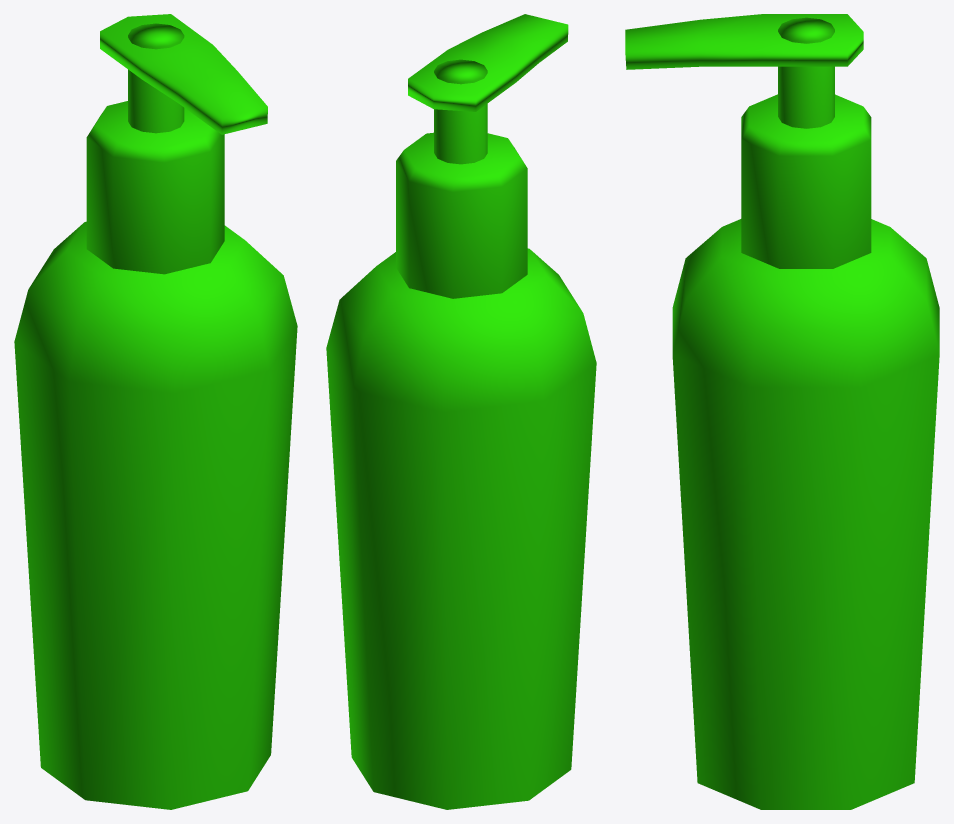
The model's file is Flacon_02_Lod0.fbx.
The picture shows the model from 3 angles, left to right: view 1: azimuth 30°, elevation 25°; view 2: azimuth 150°, elevation 25°; view 3: azimuth 270°, elevation 25°; orthographic projection. The views are drawn at different scales.
Parts seen in each view (by area): view 1: Flacon_02_Lod0; view 2: Flacon_02_Lod0; view 3: Flacon_02_Lod0.
Boxes of the visible parts, left/top/right/bottom form: Flacon_02_Lod0: left=14, top=14, right=297, bottom=809; Flacon_02_Lod0: left=326, top=14, right=596, bottom=809; Flacon_02_Lod0: left=625, top=14, right=939, bottom=809.
Size of the model in its own units: 6.06 by 18.4 by 7.14.
